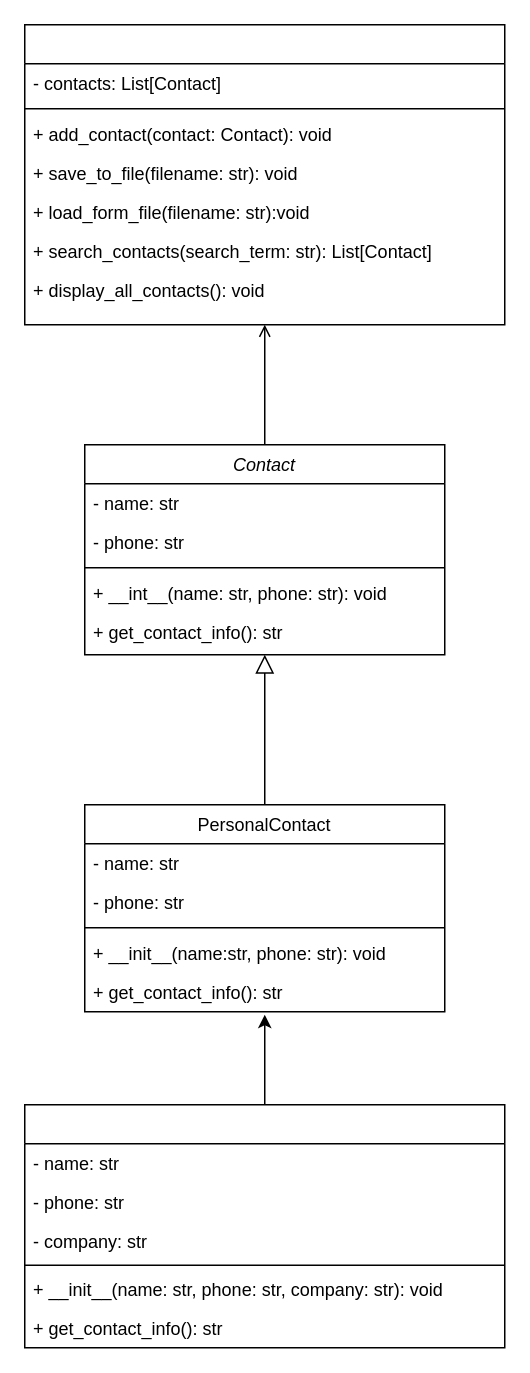
Image size: 530x1373. Some labels were removed from this diagram. The shapes that lost their labels are listed below. From the top down, each one's box as (x1, y1, x2, y2) in pixels, then its label:
(23, 23, 505, 325): AddressBook
(23, 1103, 505, 1348): BusinessContact
